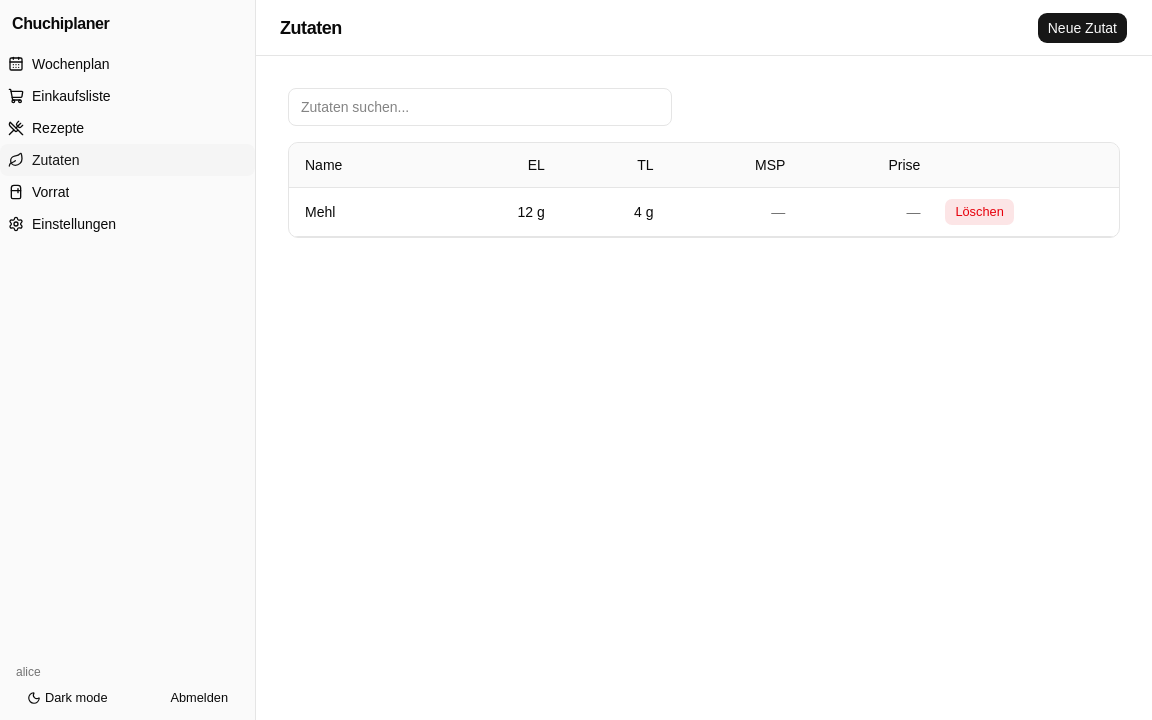
IngredientsPage › clicking delete shows confirmation dialog
Expected: the text "Mehl" is shown, left=305, top=204, right=335, bottom=220
Click the button "Löschen" at (980, 212), box left=944, top=198, right=1015, bottom=226
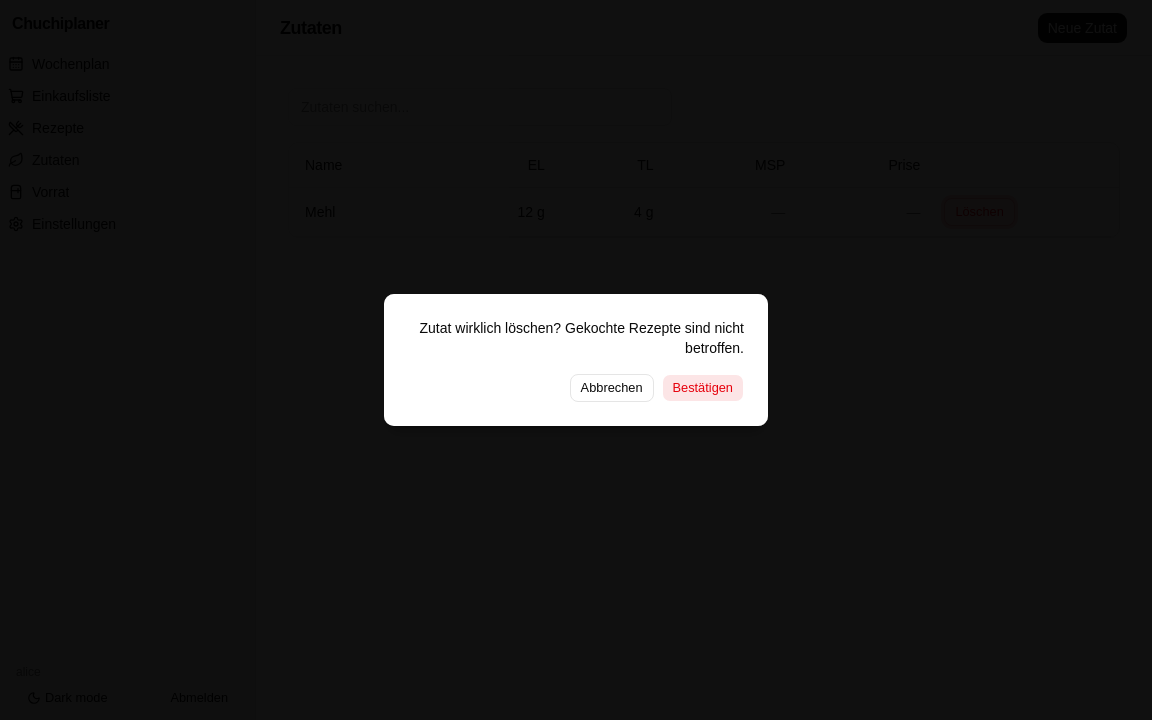
Result: the button "Bestätigen" below "12" is shown at left=662, top=374, right=744, bottom=402
Result: the button "Abbrechen" below "12" is shown at left=570, top=374, right=654, bottom=402
